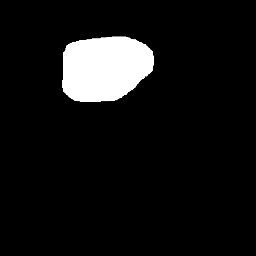mass: (61, 37, 152, 89)
